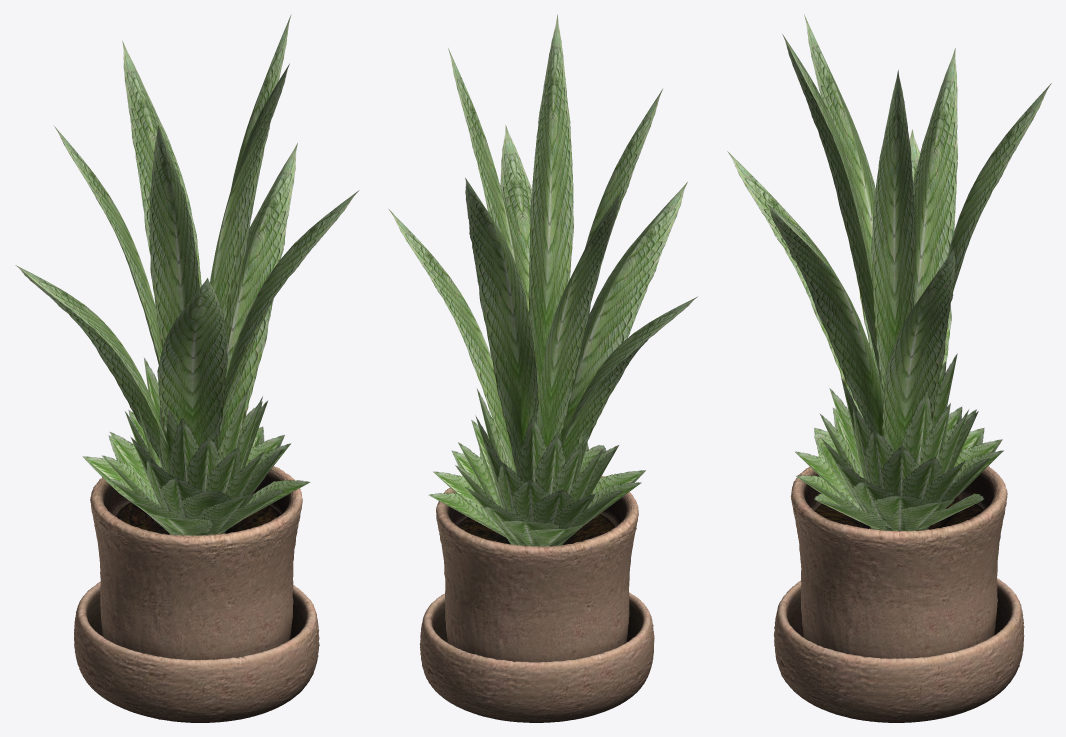
The model's file is indoor_plant.glb.
3 renders of one model, left to right at view 1: azimuth 30°, elevation 25°; view 2: azimuth 150°, elevation 25°; view 3: azimuth 270°, elevation 25°, orthographic. The views are drawn at different scales.
Visible parts, largest first — view 1: Low-Poly Plant_.001, Low-Poly Plant_; view 2: Low-Poly Plant_.001, Low-Poly Plant_; view 3: Low-Poly Plant_.001, Low-Poly Plant_.
Part boxes in pixels (box(x1,y1,x2,y2)): Low-Poly Plant_.001: box(15, 14, 359, 535); Low-Poly Plant_: box(74, 466, 319, 722); Low-Poly Plant_.001: box(388, 14, 697, 546); Low-Poly Plant_: box(419, 476, 654, 722); Low-Poly Plant_.001: box(727, 14, 1051, 531); Low-Poly Plant_: box(773, 466, 1024, 722).
Size of what is drawn, in the model's own units: 0.9355 by 1.93 by 0.8489.
Materials: 2 (2 with a texture image).
